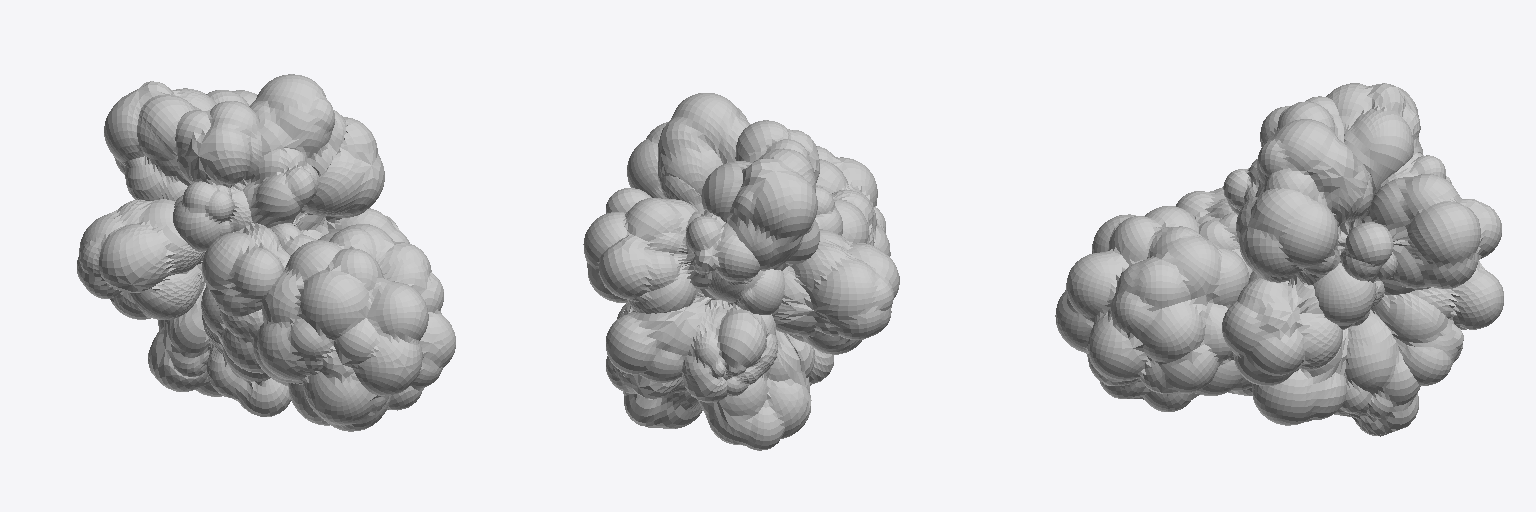
Rendered from explosion1.obj.
The picture shows the model from 3 angles: view 1: azimuth 30°, elevation 25°; view 2: azimuth 150°, elevation 25°; view 3: azimuth 270°, elevation 25°; orthographic projection.
Visible parts, largest first — view 1: Explosion_blast_2_mesh_fire_smoke_m, Explosion_blast_1_mesh_fire_smoke_m; view 2: Explosion_blast_2_mesh_fire_smoke_m, Explosion_blast_1_mesh_fire_smoke_m; view 3: Explosion_blast_2_mesh_fire_smoke_m, Explosion_blast_1_mesh_fire_smoke_m.
Part boxes in pixels (bbox=[...]): Explosion_blast_2_mesh_fire_smoke_m: bbox=[77, 74, 409, 416]; Explosion_blast_1_mesh_fire_smoke_m: bbox=[253, 224, 455, 431]; Explosion_blast_2_mesh_fire_smoke_m: bbox=[583, 93, 899, 450]; Explosion_blast_1_mesh_fire_smoke_m: bbox=[816, 146, 890, 256]; Explosion_blast_2_mesh_fire_smoke_m: bbox=[1176, 83, 1503, 436]; Explosion_blast_1_mesh_fire_smoke_m: bbox=[1055, 206, 1251, 411].
Bounding box in the file's own units: 3.75 × 3.81 × 4.93.